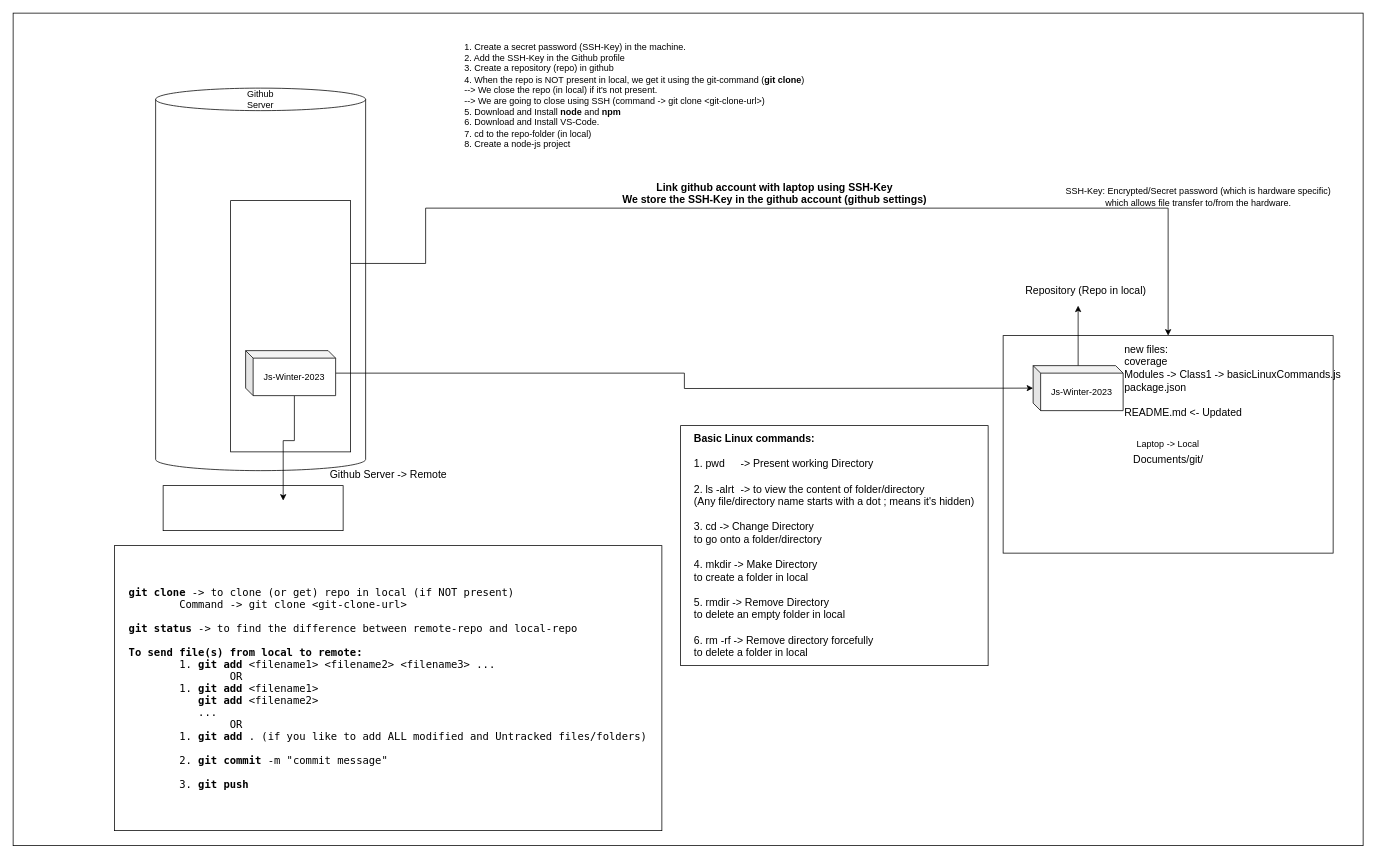
Some shapes in this 1376 by 859 pixel diagram are drawn without their labels. Each missing label, with the box of its shape:
Folder <-> Repository <-> Directory: (162, 485, 343, 531)
Github: (230, 200, 351, 452)
